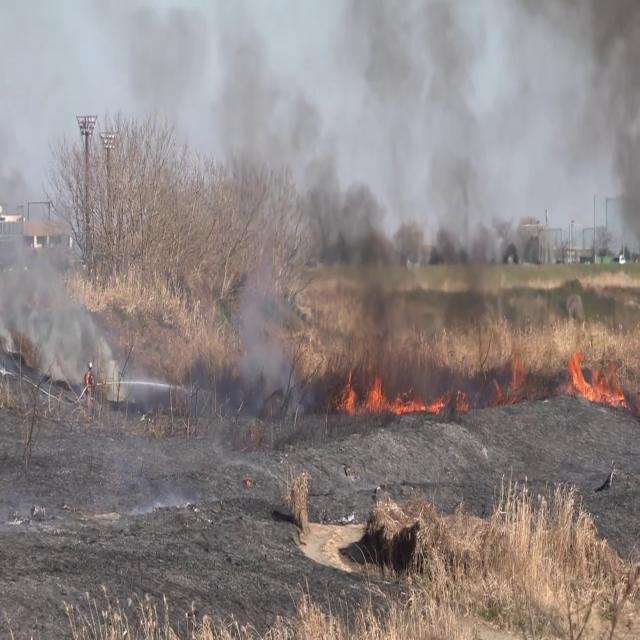Fire: (338, 368, 448, 422), (564, 346, 627, 408)
Smoke: (223, 0, 640, 311), (0, 196, 134, 406)
